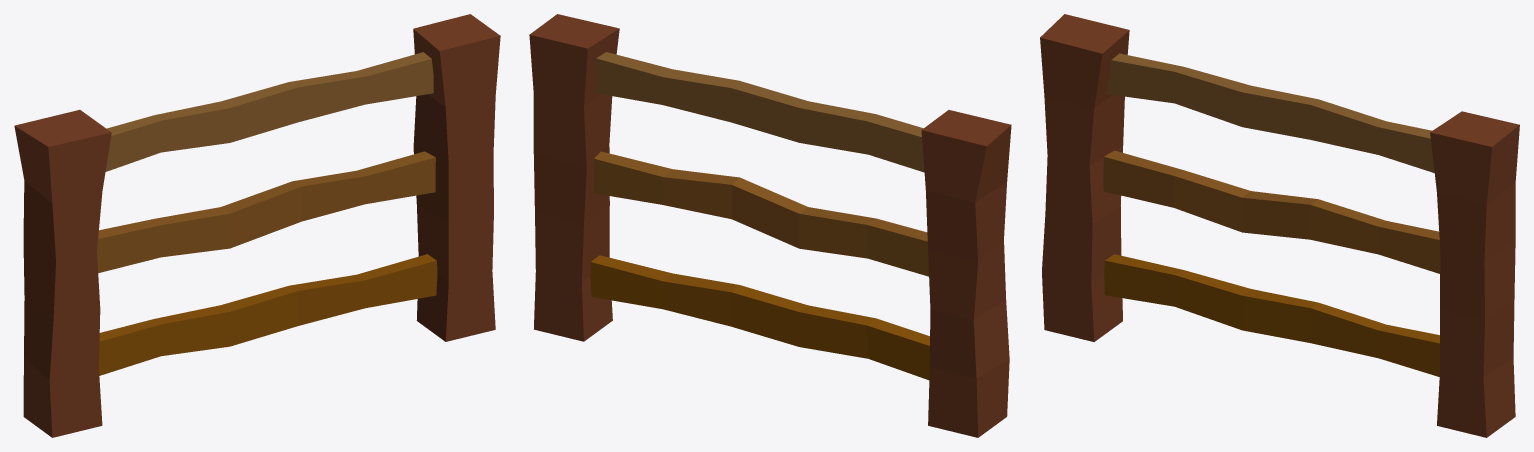
File: fance.fbx
3 renders of one model, left to right at view 1: azimuth 30°, elevation 25°; view 2: azimuth 150°, elevation 25°; view 3: azimuth 330°, elevation 25°, orthographic.
Visible parts, largest first — view 1: Cube, Куб.001, Куб.002, Куб; view 2: Cube, Куб.002, Куб.001, Куб; view 3: Cube, Куб.001, Куб.002, Куб.
Boxes of the visible parts, <box> form: Cube: <box>14,14,500,437</box>; Куб.001: <box>97,151,435,272</box>; Куб.002: <box>99,254,437,375</box>; Куб: <box>105,52,433,171</box>; Cube: <box>529,14,1011,437</box>; Куб.002: <box>590,255,929,380</box>; Куб.001: <box>593,151,928,276</box>; Куб: <box>595,52,924,172</box>; Cube: <box>1040,14,1519,437</box>; Куб.001: <box>1103,150,1440,273</box>; Куб.002: <box>1104,254,1440,376</box>; Куб: <box>1107,53,1434,172</box>.
Bounding box in the file's own units: 409 × 251 × 48.29.
